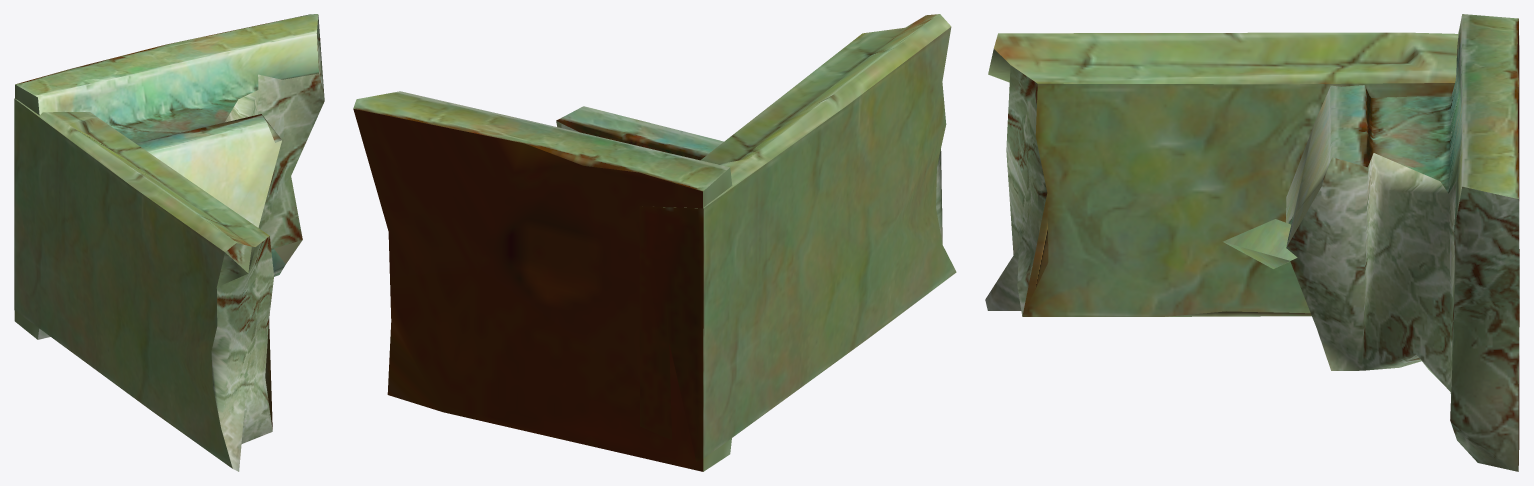
The model's file is Ruins_Wall_Arch_DMG_D.fbx.
3 renders of one model, left to right at view 1: azimuth 30°, elevation 25°; view 2: azimuth 150°, elevation 25°; view 3: azimuth 270°, elevation 25°, orthographic. The views are drawn at different scales.
Visible parts, largest first — view 1: Ruins_Wall_Arch_DMG_D; view 2: Ruins_Wall_Arch_DMG_D; view 3: Ruins_Wall_Arch_DMG_D.
Part boxes in pixels (x1,y1,x2,y2): Ruins_Wall_Arch_DMG_D: (14, 14, 324, 471); Ruins_Wall_Arch_DMG_D: (353, 14, 956, 471); Ruins_Wall_Arch_DMG_D: (985, 14, 1519, 471).
Bounding box in the file's own units: 457 × 352 × 567.
